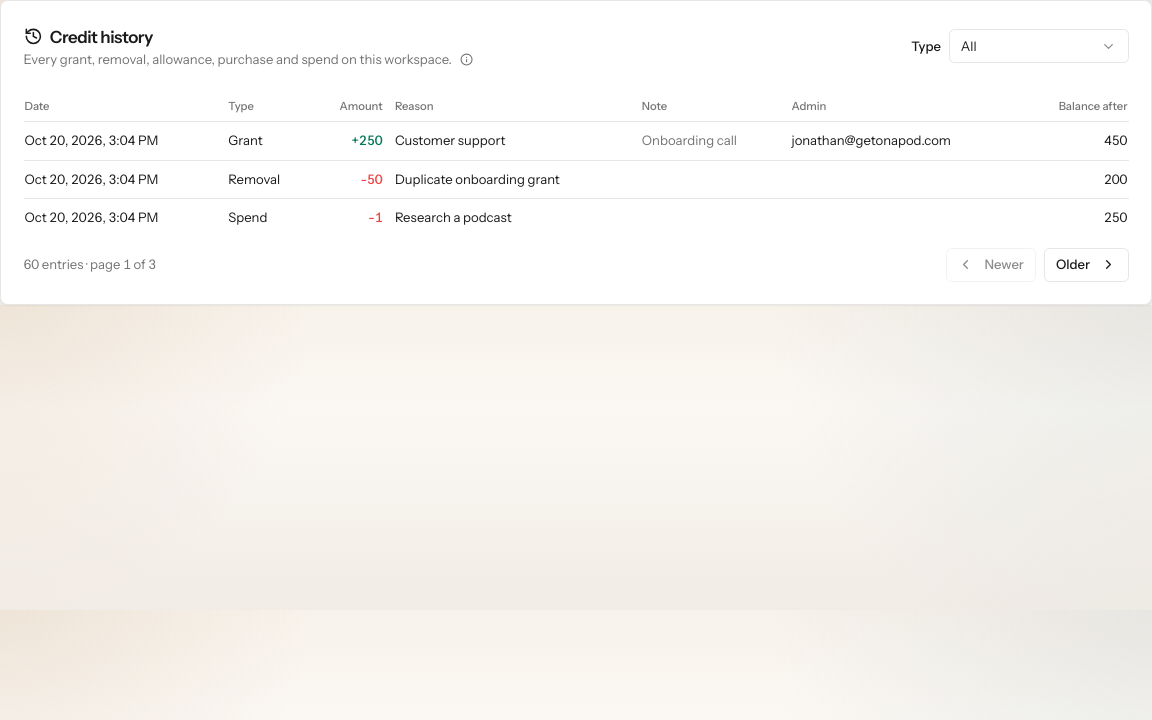
Test case: WorkspaceCreditLedger › does not show the previous type while a new one loads
Expected: the text "Onboarding call" is shown, [641,122,790,160]
Click the dropdown named "Type": (1038, 46) [948,29,1128,63]
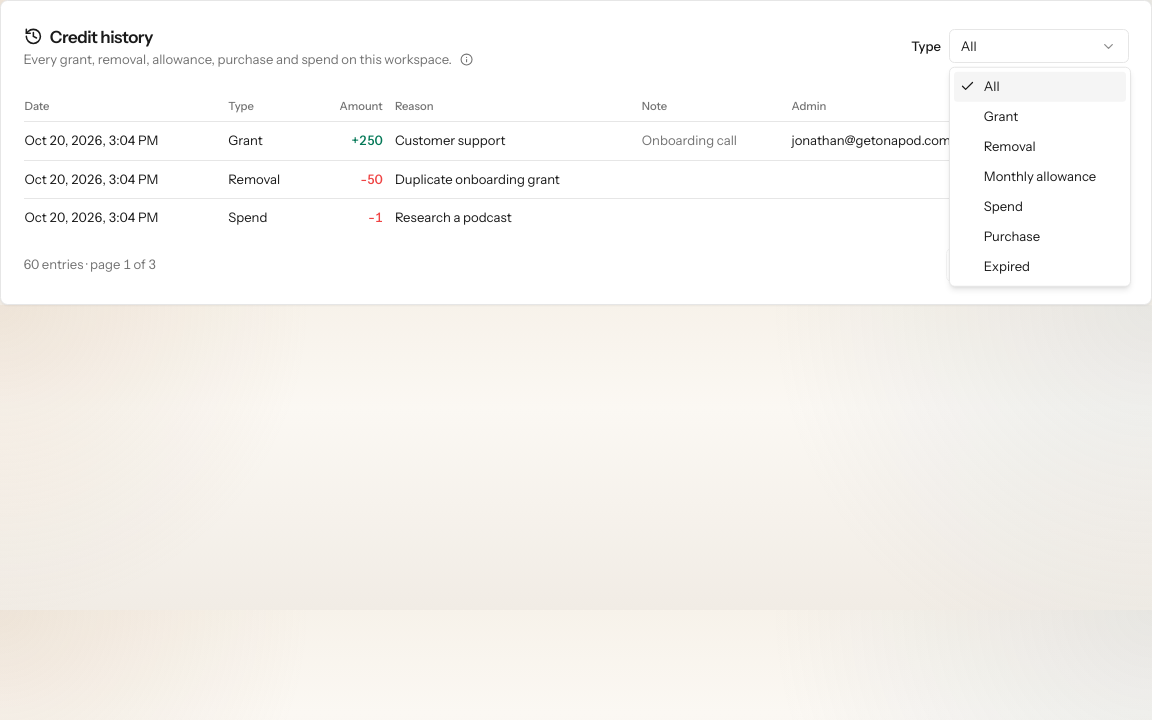
Click the option "Purchase": (1012, 236) [984,228,1040,244]
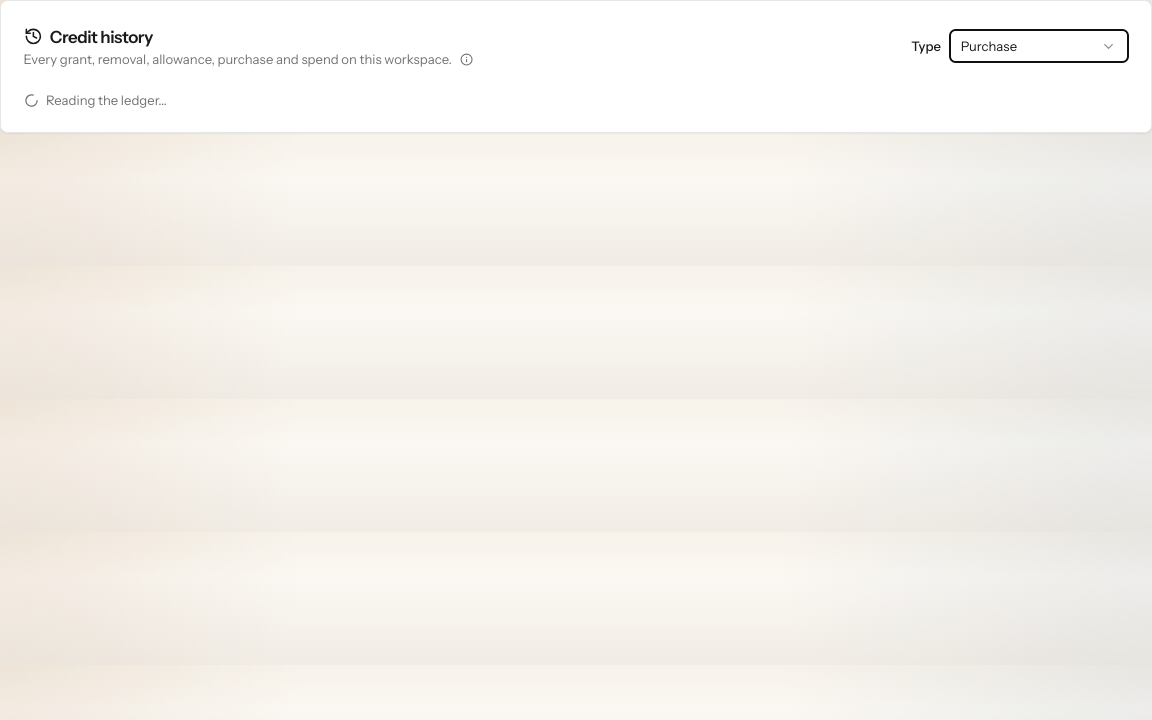
Expected: the text "Reading the ledger…" is shown, [24,92,167,108]
Expected: the text "Onboarding call" is gone
